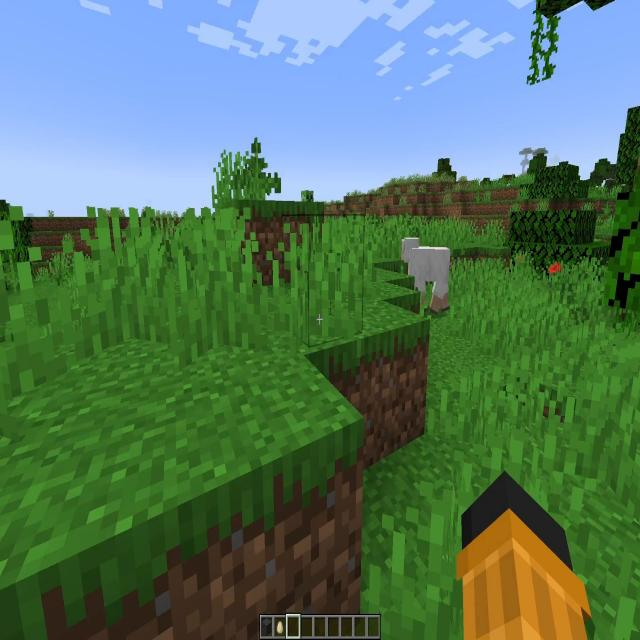Creeper: (302, 190, 316, 202)
Sheep: (406, 239, 447, 311)
